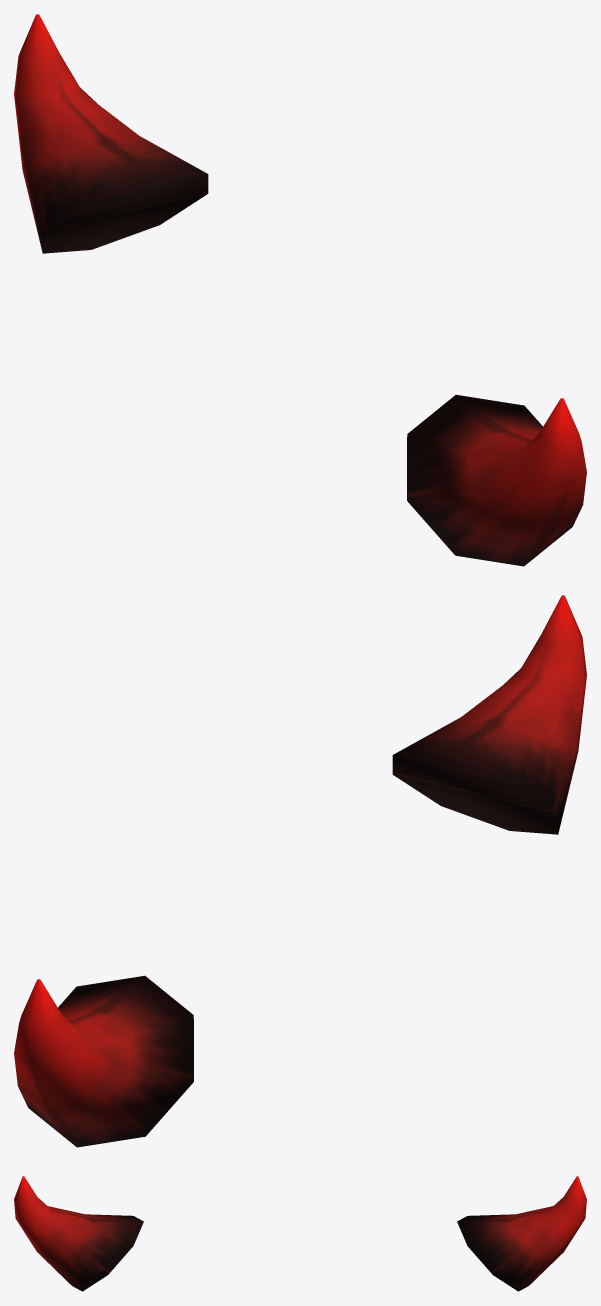
The model's file is Devil_Horn.glb.
3 renders of one model, top to bottom at view 1: azimuth 30°, elevation 25°; view 2: azimuth 150°, elevation 25°; view 3: azimuth 270°, elevation 25°, orthographic. The views are drawn at different scales.
Visible parts, largest first — view 1: Devil Horn; view 2: Devil Horn; view 3: Devil Horn.
Part boxes in pixels (x1,y1,x2,y2): Devil Horn: (14,14,586,566); Devil Horn: (14,595,586,1147); Devil Horn: (14,1176,586,1291).
Bounding box in the file's own units: 0.4493 × 0.5258 × 2.55.
Materials: 1 (1 with a texture image).
